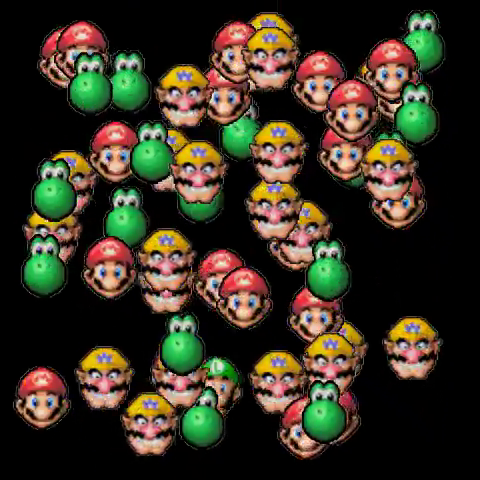luigi: (205, 356, 233, 404)
